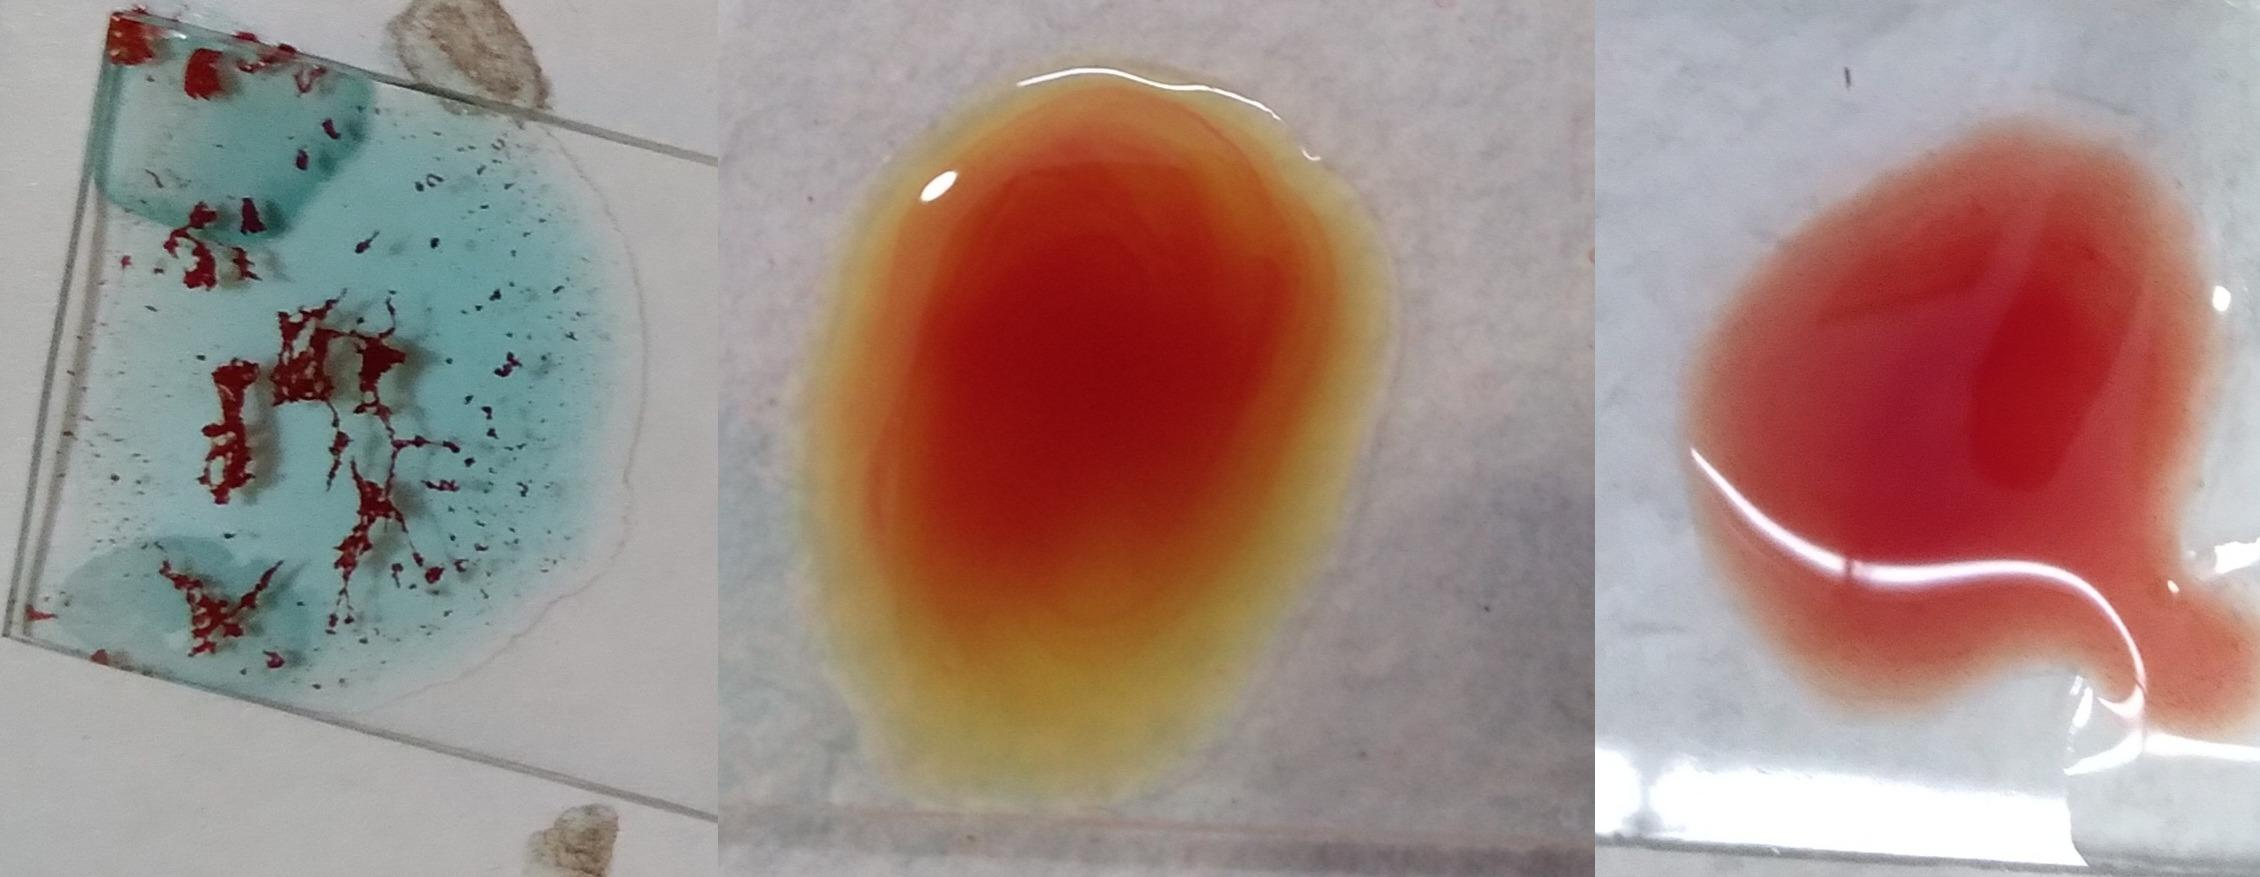A: (91, 91, 587, 672)
